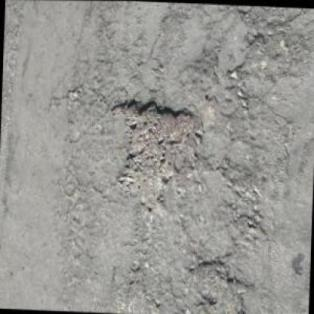Hueco: (106, 92, 206, 203), (191, 254, 248, 296)
